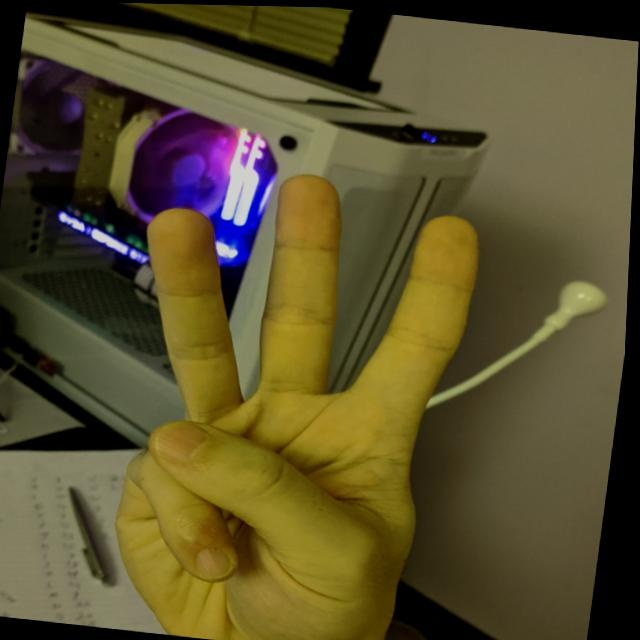W: (91, 147, 500, 639)
